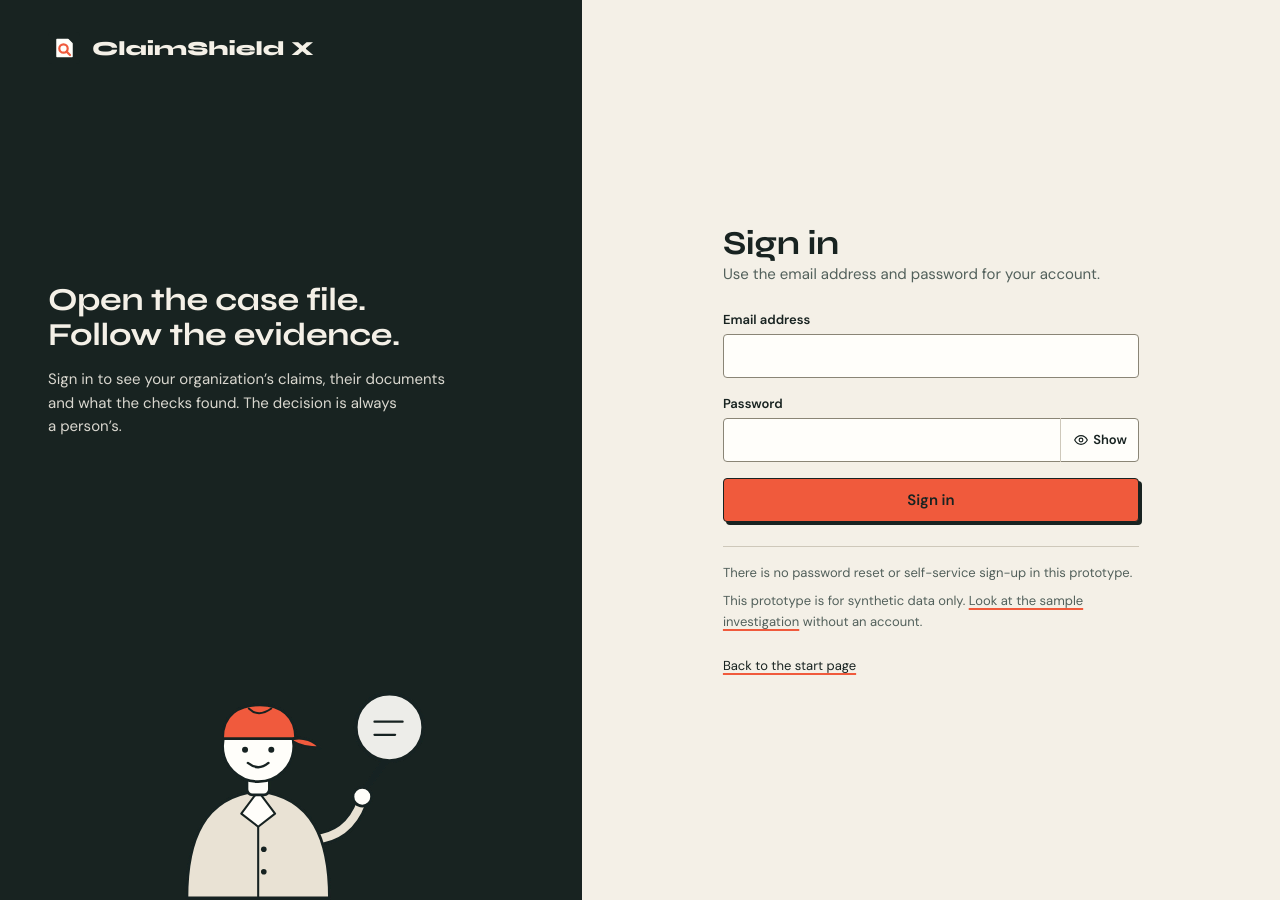
Scenario: LoginPage outcomes › says only that the email or password is wrong, and clears the password
Type "inv@org-a.test" into the field labelled "Email address" at [931, 356], box [723,334,1139,378]
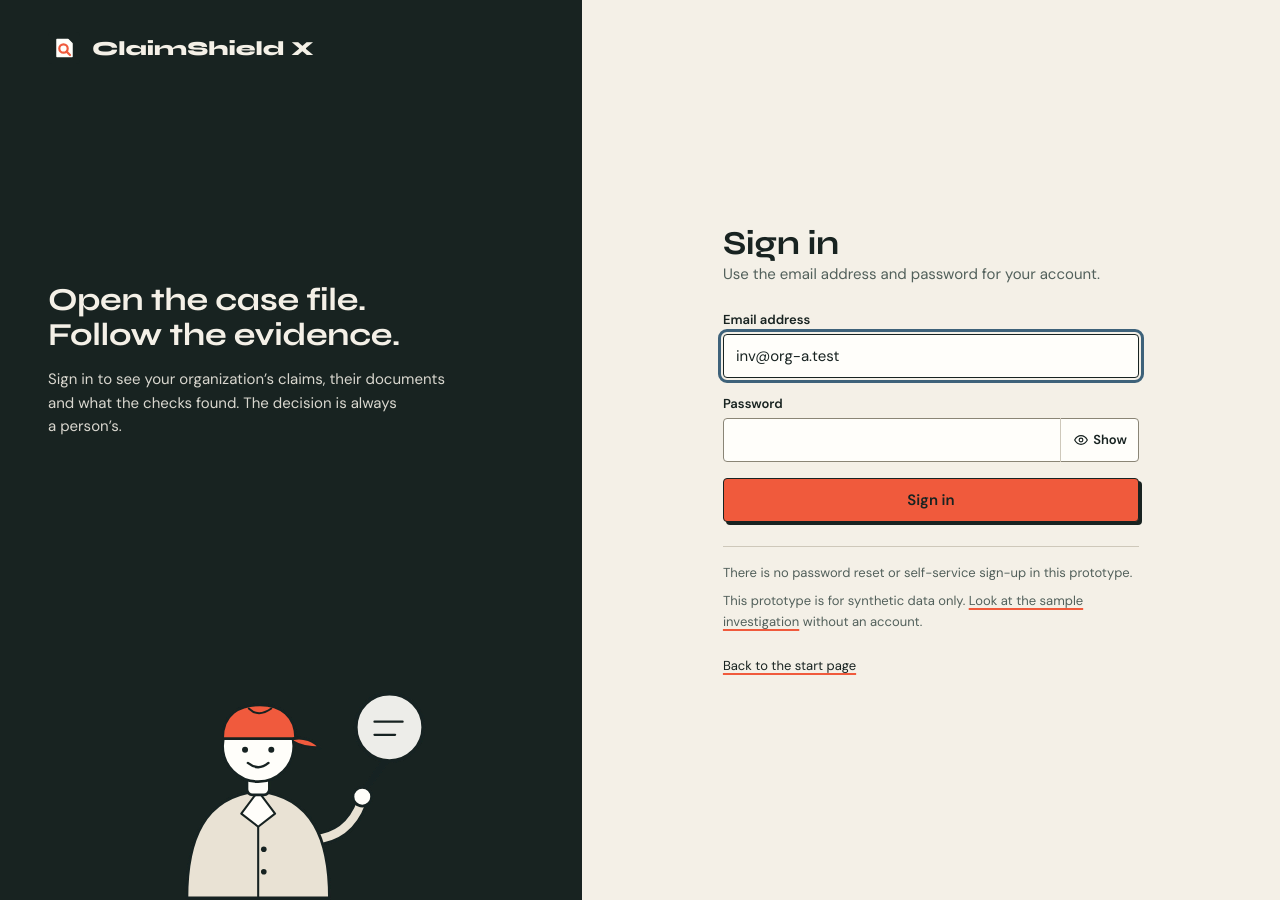
Type "password-123" into the password field labelled "Password" at [931, 440], box [723,418,1139,462]
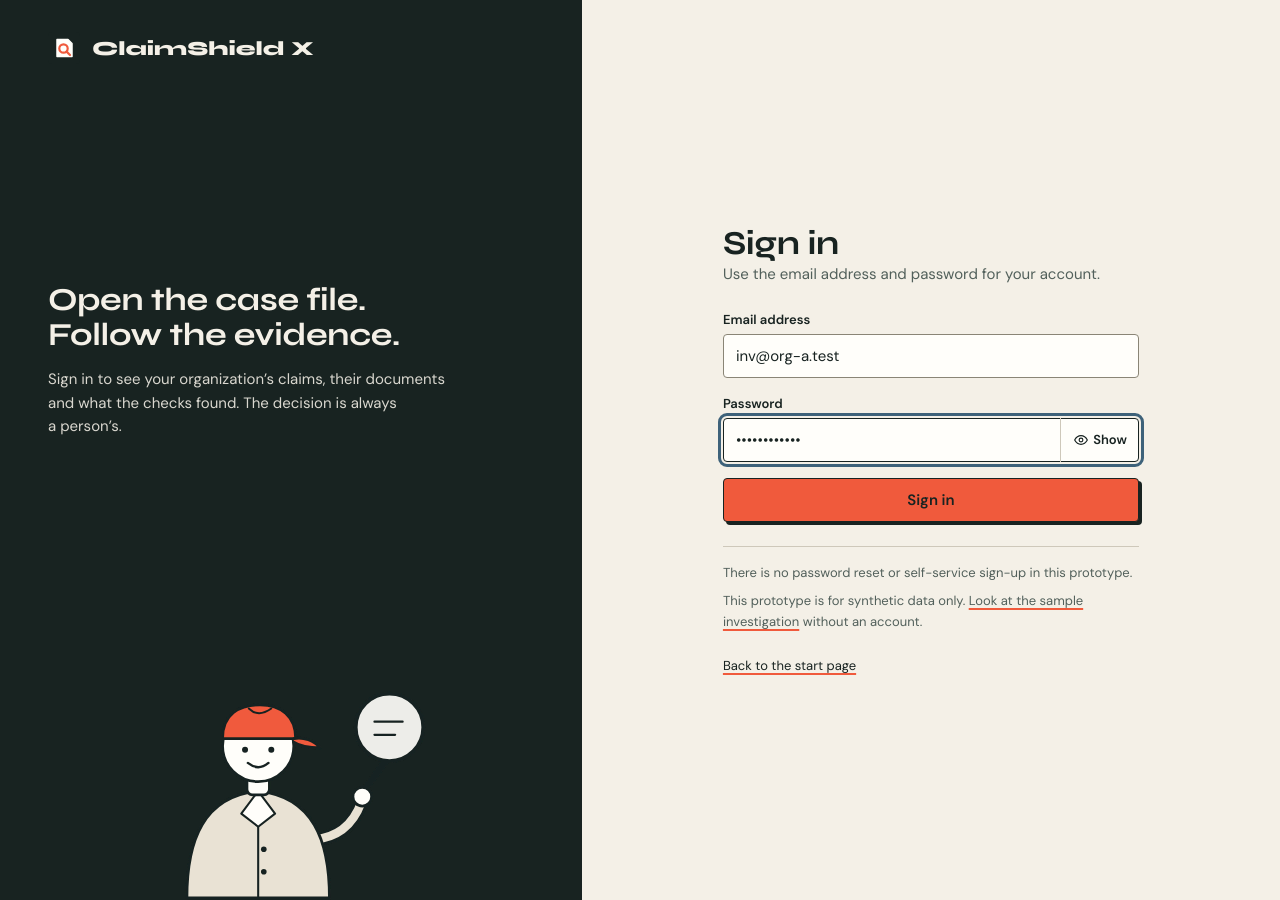
Click the button "Sign in" at [931, 500], box [723,478,1139,522]
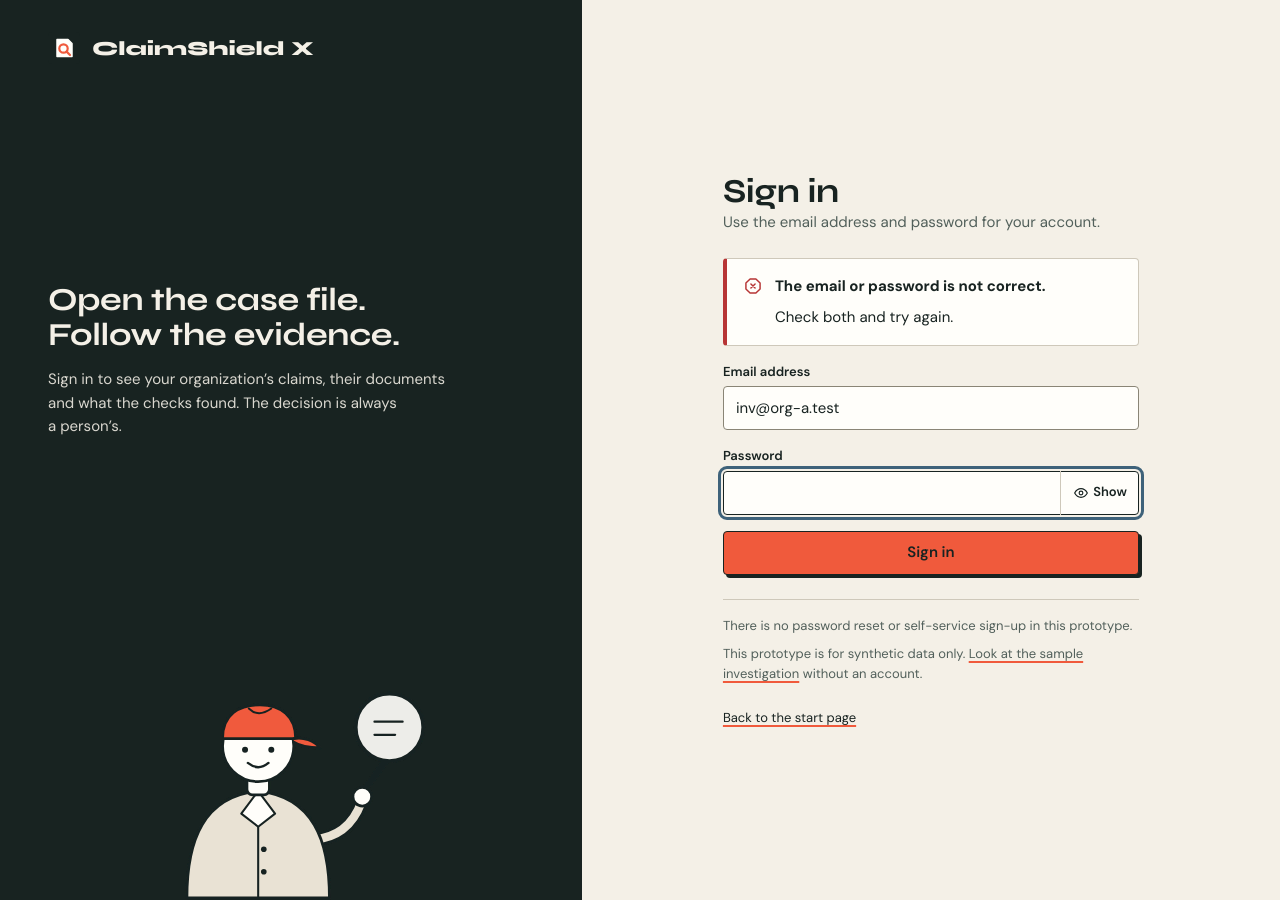
Result: the message shows "The email or password is not correct." at [775,276,1045,296]
Result: the password field labelled "Password" is empty at [723,470,1139,514]
